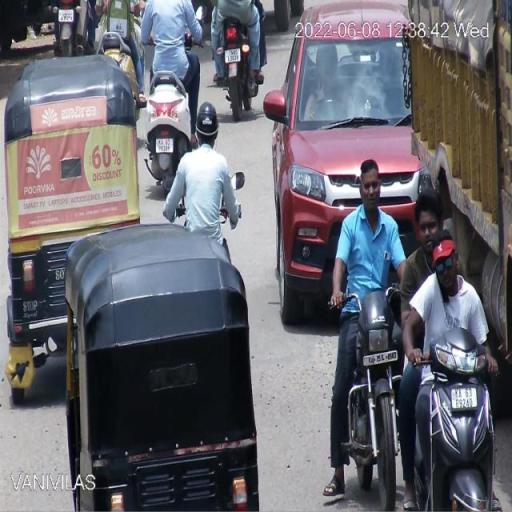using mobile: (431, 258, 457, 310)
